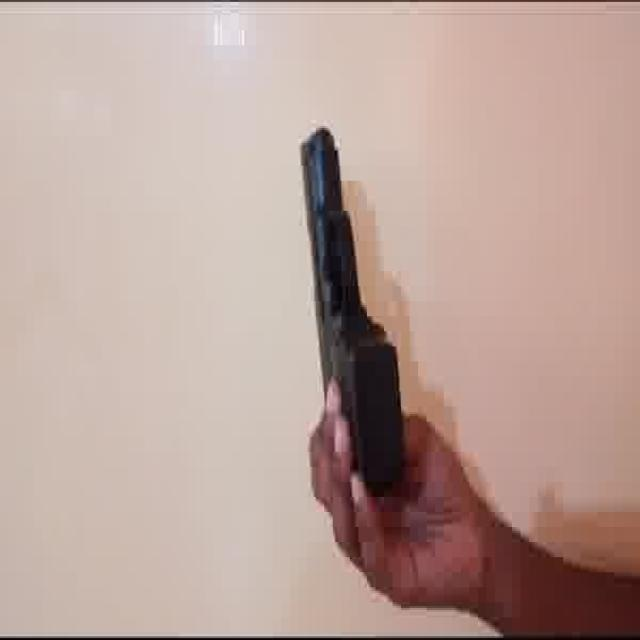weapon: (298, 124, 414, 502)
